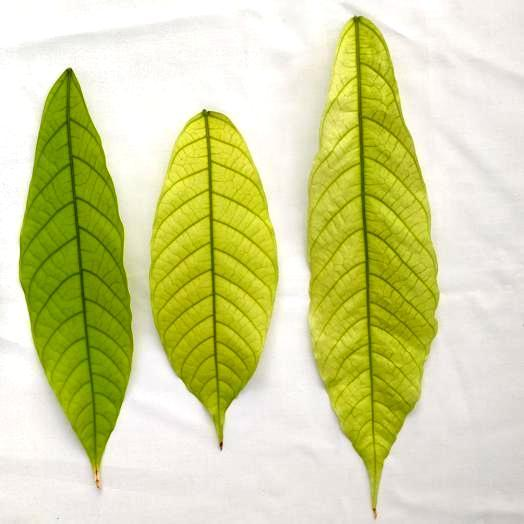Iron: (308, 16, 438, 516), (19, 68, 131, 486), (150, 110, 277, 448)
